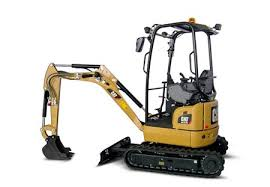backhoe: (38, 14, 226, 177)
